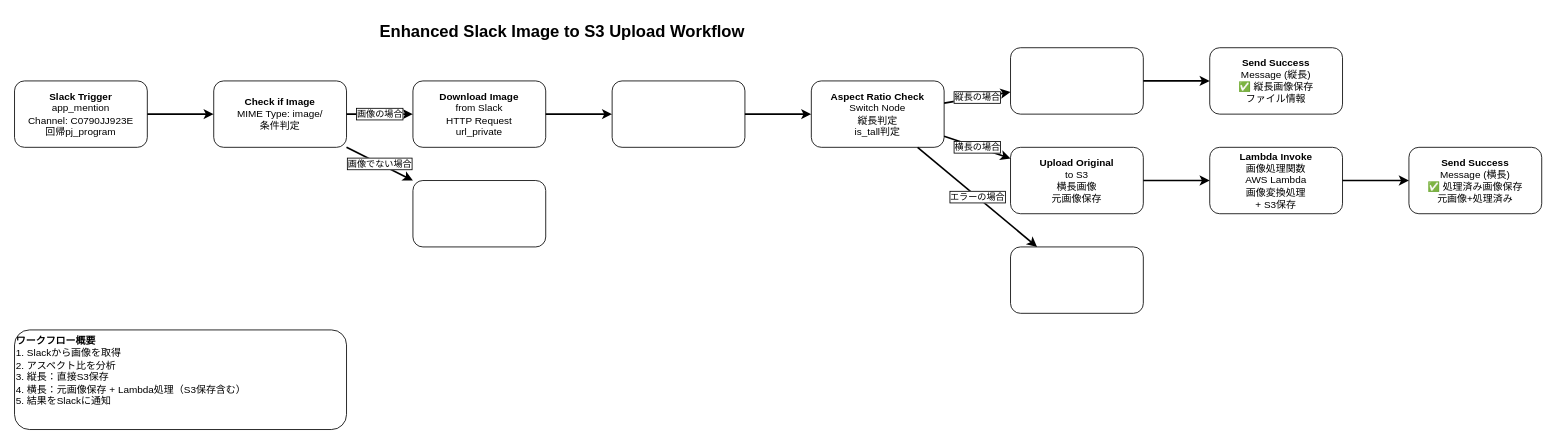
This 1556x444 diagram has some shape labels left out. The centre of each missing label's shape, as x and y in pixels:
"Aspect Ratio Analysis Python Code Node 画像サイズ計算 縦長判定" belongs at [678,113].
"Send Debug Message ❌ 画像なし デバッグ情報" belongs at [479,213].
"Send Error Message 🚨 エラー通知 エラー詳細" belongs at [1076,279].
"Upload to S3 縦長画像 Bucket: tokushima-return Path: r7/BroadCast/" belongs at [1076,80].
